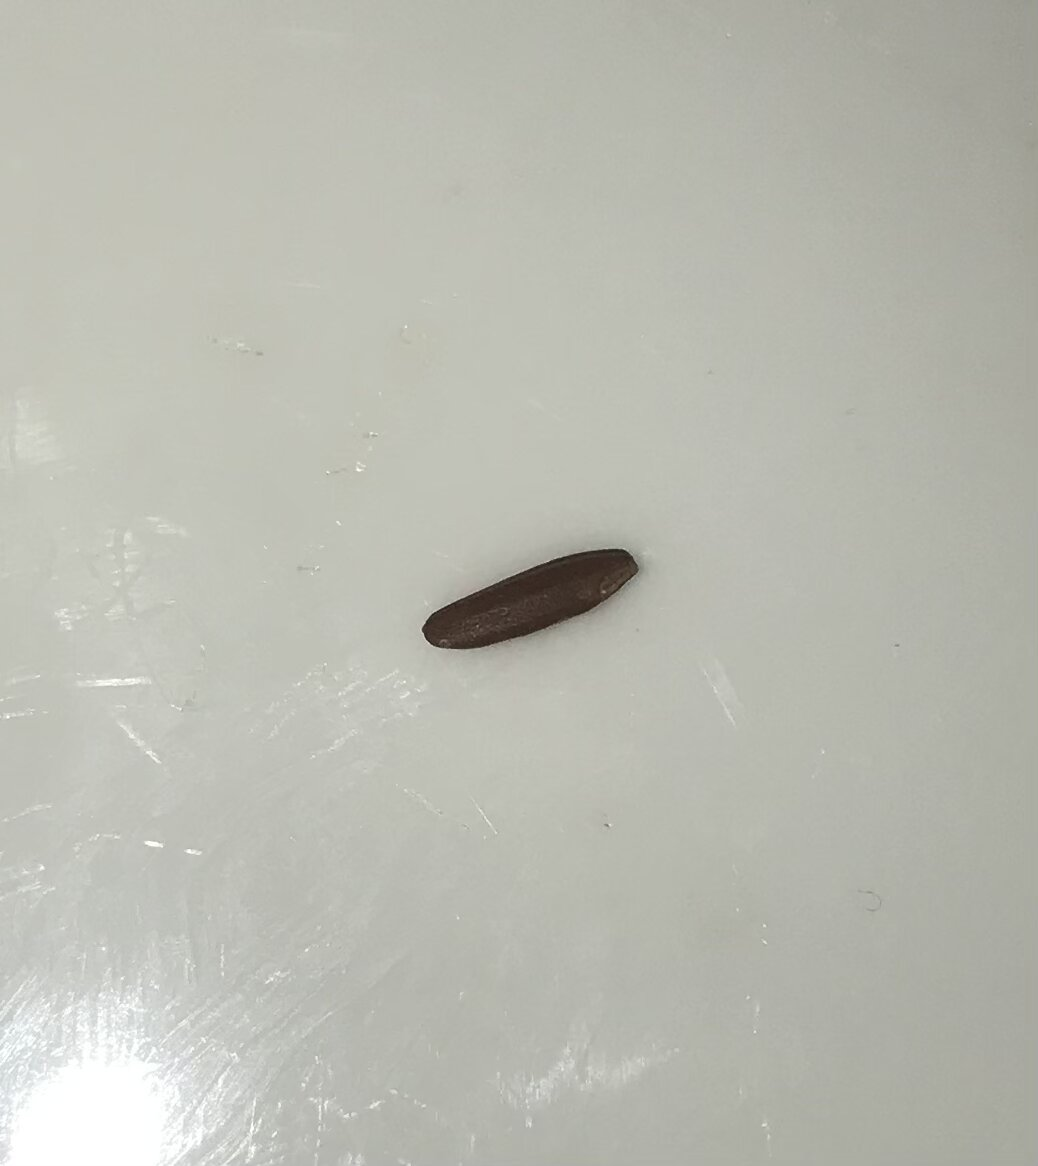Gao Huyet Rong: (426, 542, 644, 647)
